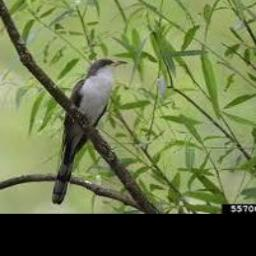Cuckoo: (51, 58, 126, 205)
